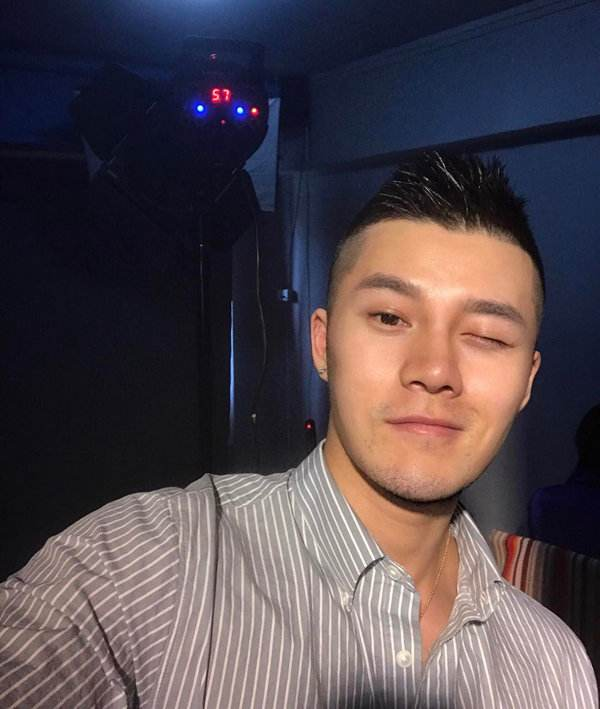person: (226, 139, 547, 709)
